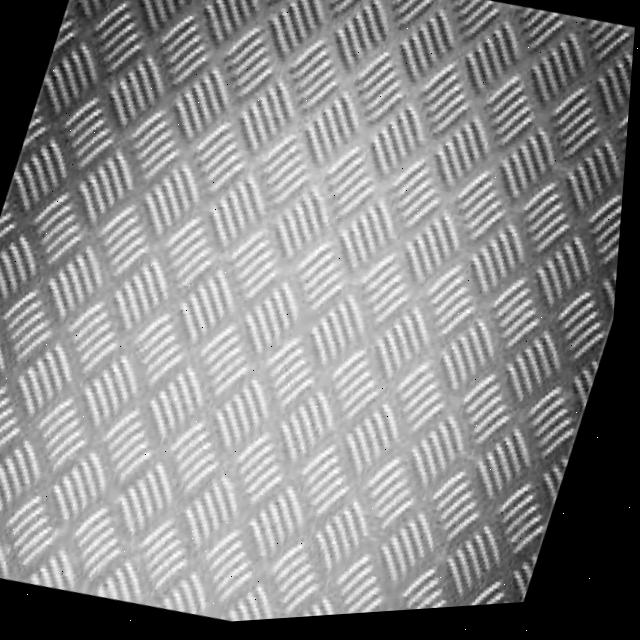Dry: (248, 247, 349, 350)
